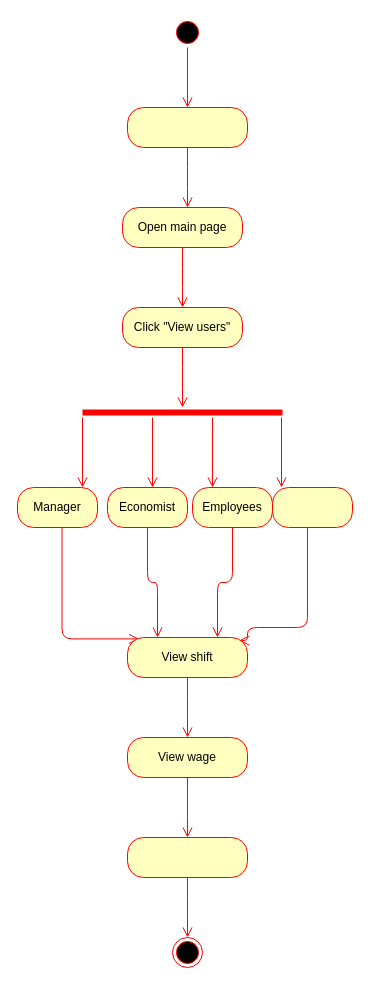
Some shapes in this 370 by 985 pixel diagram are drawn without their labels. The centre of each missing label's shape, as x and y in pixels:
"Clients" belongs at [312,507].
"Enter as admin" belongs at [187,127].
"View extra" belongs at [187,857].
